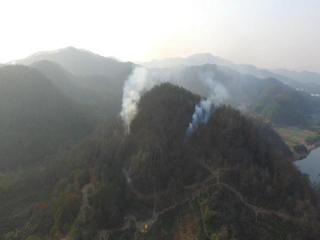smoke: (117, 63, 169, 138), (185, 78, 235, 143)
